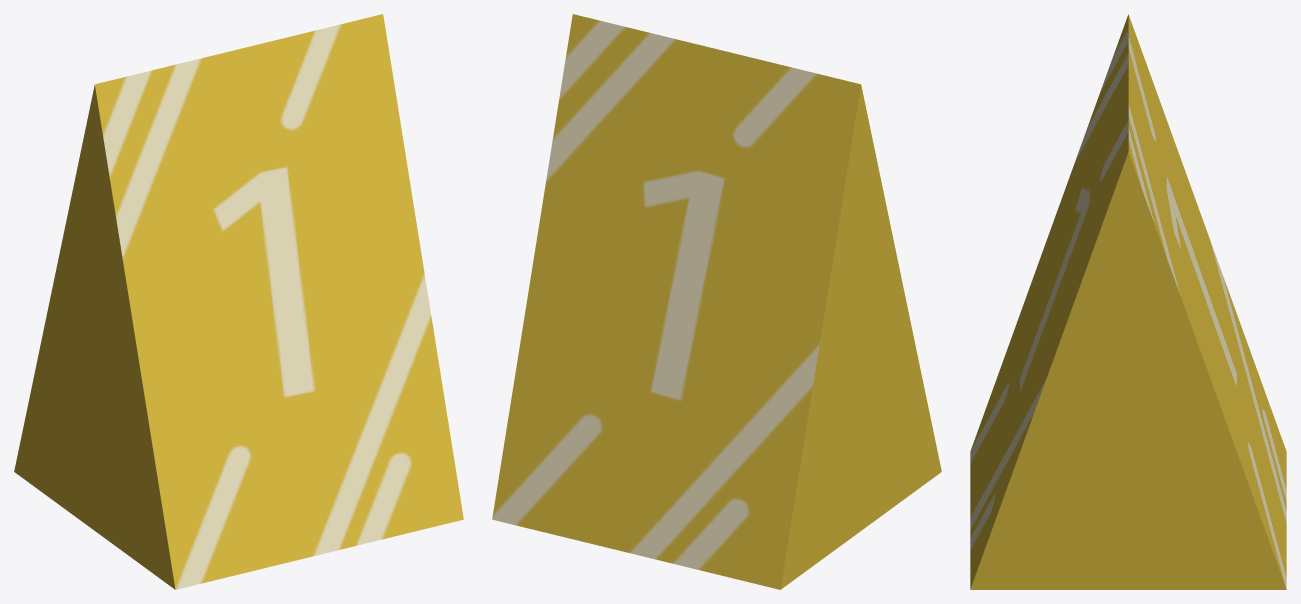
Rendered from ClueMarker1.fbx.
3 views of the same model, side by side, from view 1: azimuth 30°, elevation 25°; view 2: azimuth 150°, elevation 25°; view 3: azimuth 270°, elevation 25° (orthographic).
Visible parts, largest first — view 1: ClueMesh; view 2: ClueMesh; view 3: ClueMesh.
Part boxes in pixels (box(x1,y1,x2,y2)): ClueMesh: box(14, 14, 463, 589); ClueMesh: box(492, 14, 941, 589); ClueMesh: box(970, 14, 1286, 589).
Bounding box in the file's own units: 2.56 × 3.79 × 2.48.
Materials: 2 (2 with a texture image).
